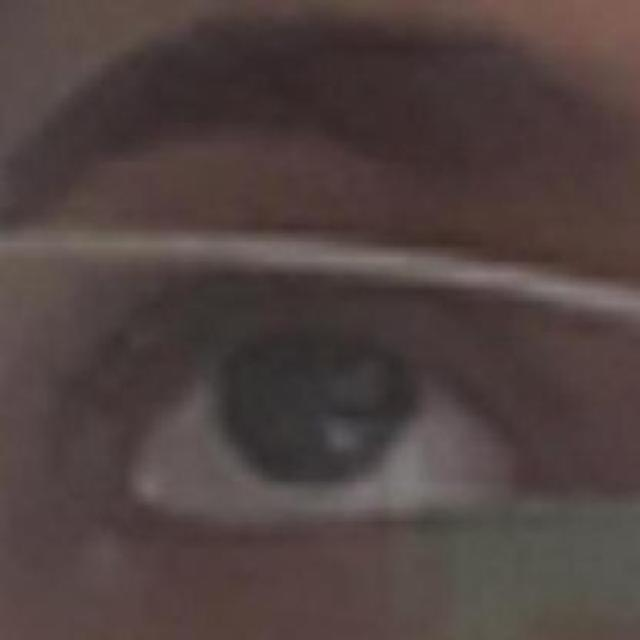awake: (120, 334, 514, 521)
